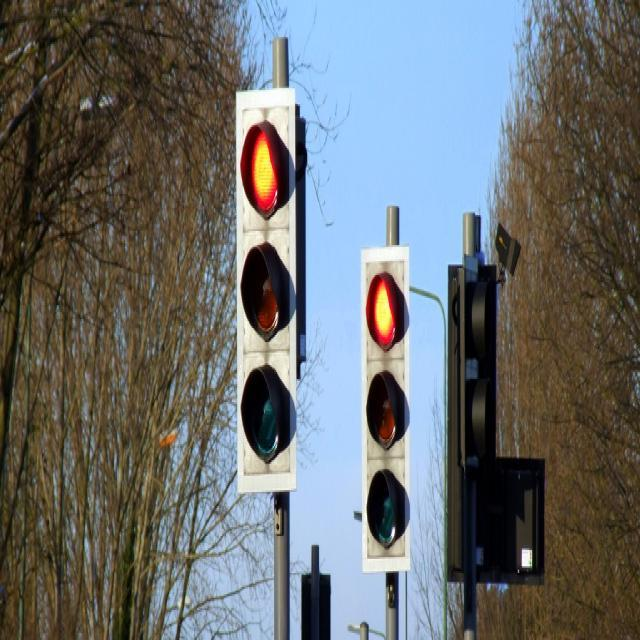traffic light: (233, 87, 301, 493), (358, 245, 411, 564)
